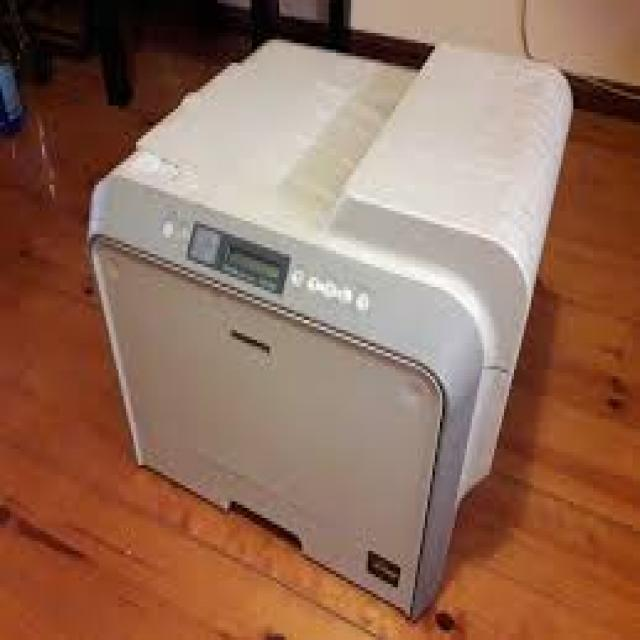printer: (92, 34, 576, 623)
